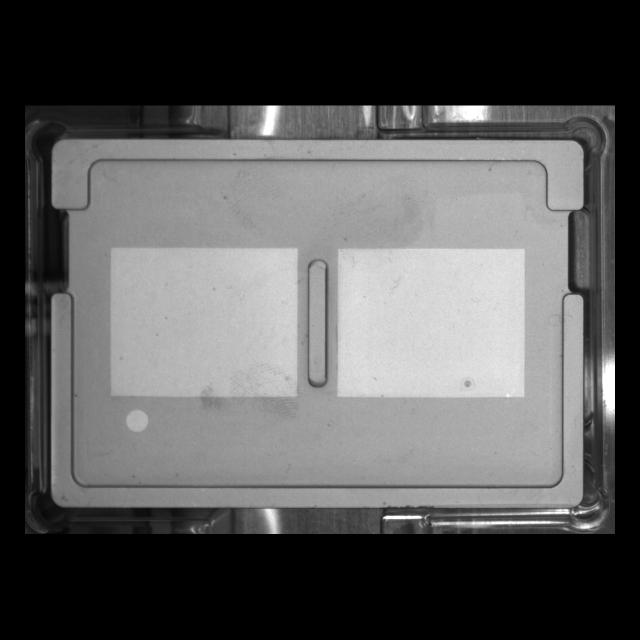door: (39, 128, 593, 222)
point: (118, 402, 156, 440)
